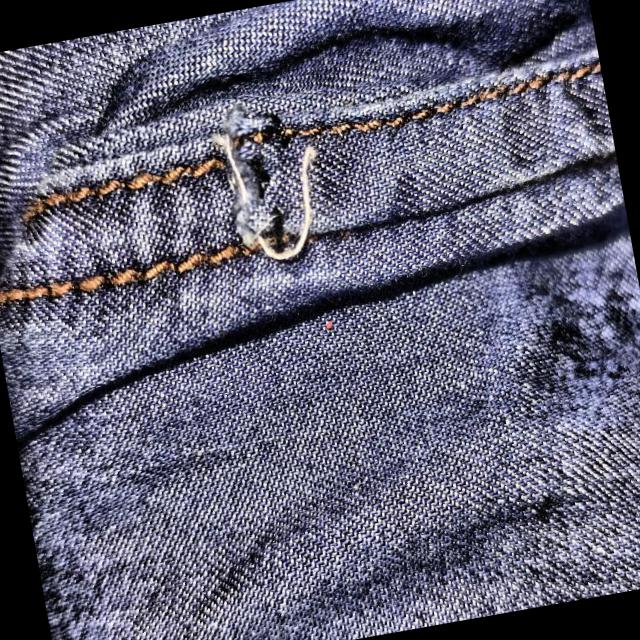gray stitch: (202, 90, 351, 306)
